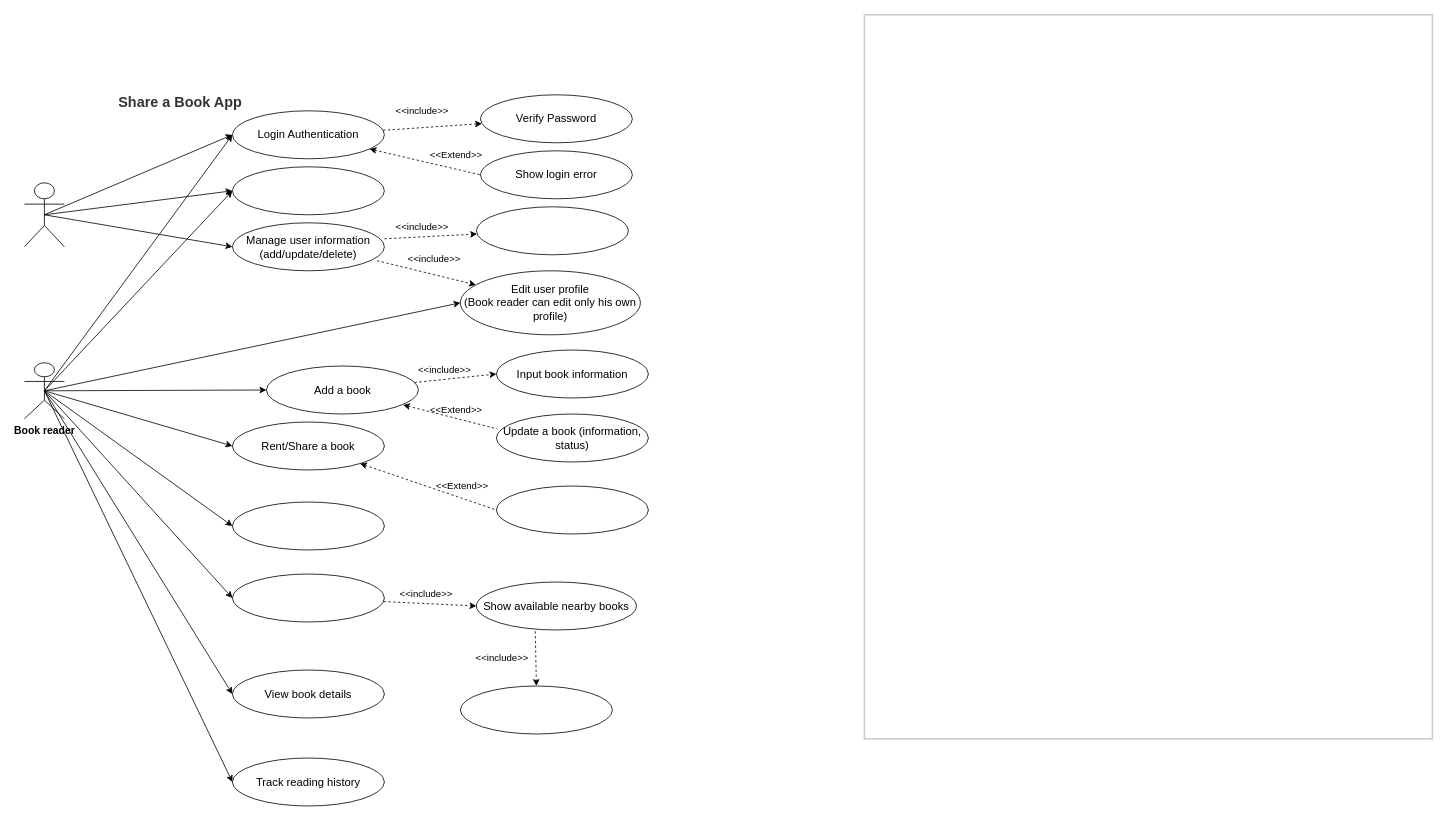
Image size: 1446x820. Some labels were removed from this diagram. Here are the shapes that lost their labels. From the top down, the centre of each, then its label:
the point at 308,190: Logout
the point at 44,214: Admin
the point at 552,230: Add/Remove
the point at 308,525: Give away a book
the point at 572,509: View/Respond to rent/share request
the point at 308,597: Search for a book
the point at 536,709: Request to borrow/rent a book
